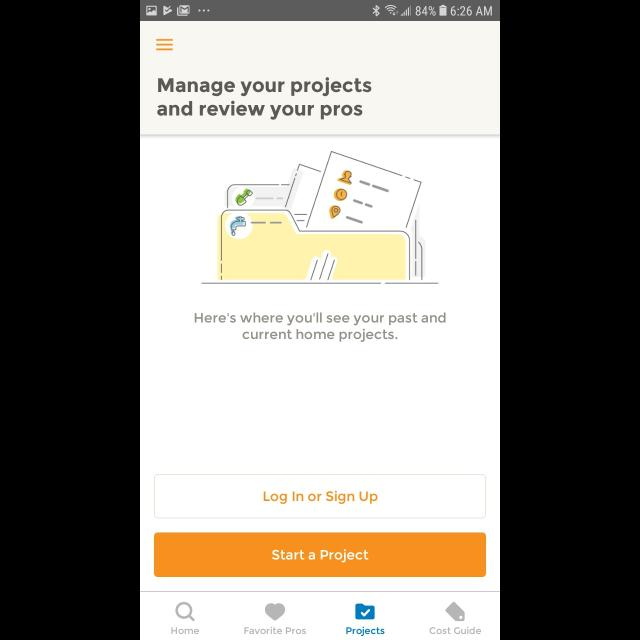icon: (445, 602, 465, 622), (176, 602, 196, 622), (265, 603, 285, 621), (355, 604, 375, 620), (156, 38, 174, 52)
image: (202, 152, 438, 284)
text: (156, 76, 372, 120), (194, 313, 446, 343), (245, 626, 307, 634), (429, 626, 481, 634), (346, 626, 386, 636), (172, 626, 200, 634)
textbutton: (154, 532, 486, 578), (154, 474, 486, 518)
uppertaskbar: (140, 1, 500, 22)
